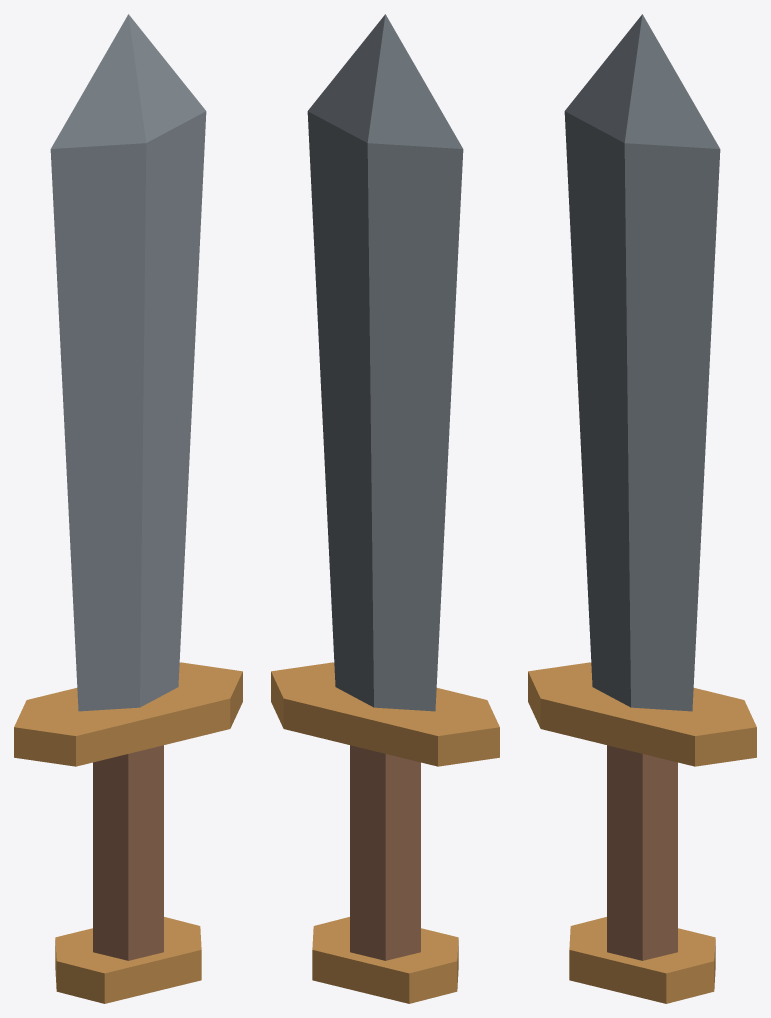
File: SM_Icon_Sword_01.fbx
3 views of the same model, side by side, from view 1: azimuth 30°, elevation 25°; view 2: azimuth 150°, elevation 25°; view 3: azimuth 330°, elevation 25° (orthographic).
Visible parts, largest first — view 1: SM_Icon_Sword_01; view 2: SM_Icon_Sword_01; view 3: SM_Icon_Sword_01.
Boxes of the visible parts, x1,y1,x2,y2 form: SM_Icon_Sword_01: (14,14,242,1003); SM_Icon_Sword_01: (271,14,499,1003); SM_Icon_Sword_01: (528,14,756,1003).
Size of the model in its own units: 19.99 by 80.12 by 7.46.
